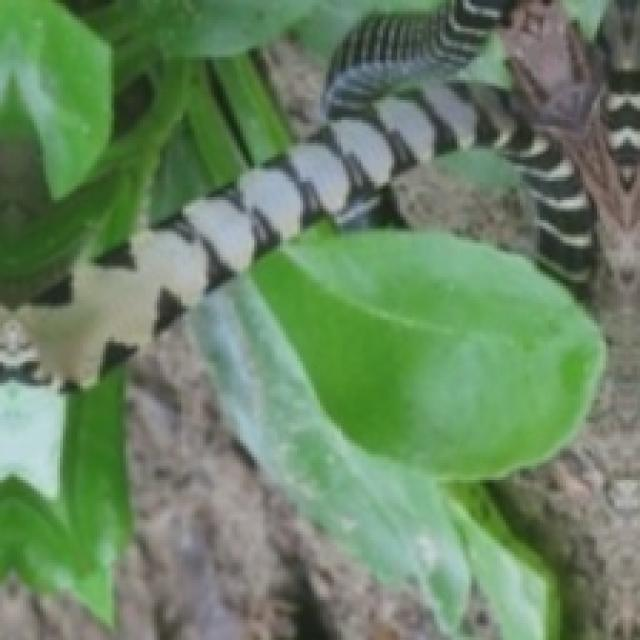king cobra: (1, 0, 592, 404)
